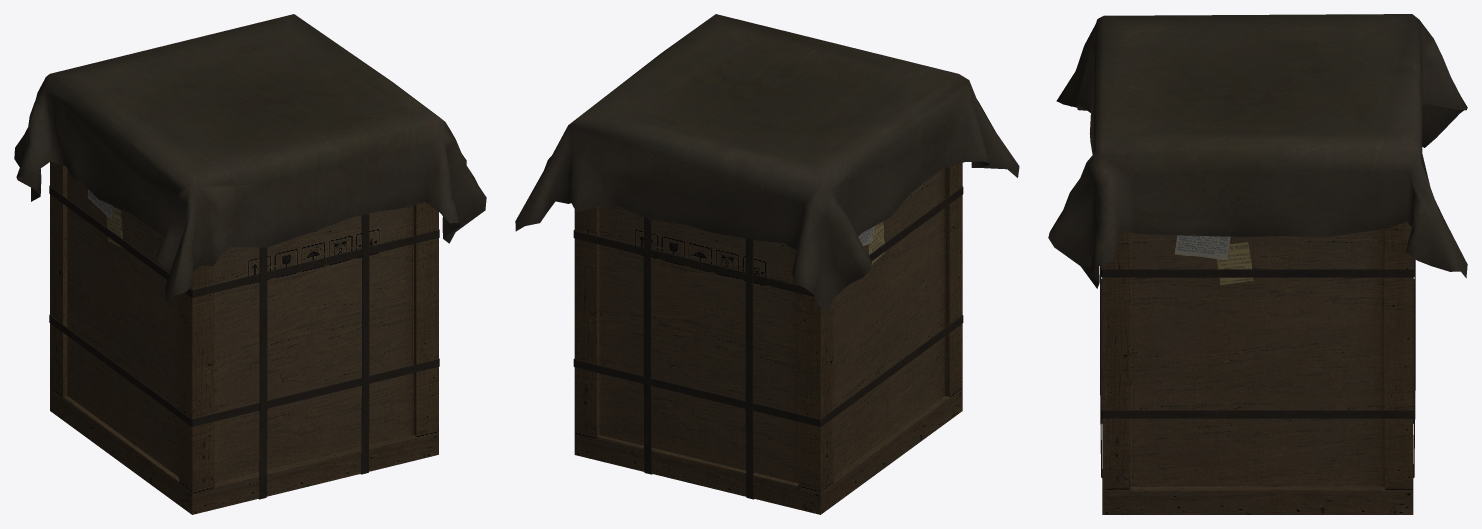
Rendered from wooden_crate_hx_1_2.glb.
3 renders of one model, left to right at view 1: azimuth 30°, elevation 25°; view 2: azimuth 150°, elevation 25°; view 3: azimuth 270°, elevation 25°, orthographic. The views are drawn at different scales.
Parts seen in each view (by area): view 1: wooden_crate_hx_1_2; view 2: wooden_crate_hx_1_2; view 3: wooden_crate_hx_1_2.
Part boxes in pixels (x1,y1,x2,y2): wooden_crate_hx_1_2: (14,14,486,514); wooden_crate_hx_1_2: (515,14,1019,514); wooden_crate_hx_1_2: (1048,14,1467,514).
Size of the model in its own units: 1.89 by 1.84 by 1.89.
Materials: 3 (3 with a texture image).
